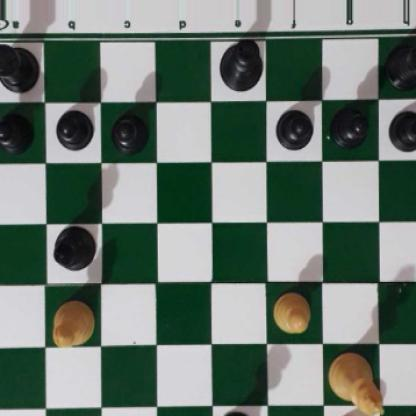black-bishop: (51, 224, 98, 273)
black-king: (217, 38, 265, 92)
black-pawn: (274, 104, 313, 148), (110, 109, 148, 152), (55, 107, 92, 150), (331, 104, 368, 145), (0, 109, 33, 150), (388, 106, 416, 152)
black-queen: (216, 410, 258, 416)
black-rook: (0, 39, 40, 92), (386, 35, 416, 89)
white-bishop: (49, 301, 95, 349)
white-king: (327, 350, 386, 416)
white-pawn: (271, 288, 314, 335), (329, 413, 374, 416)
